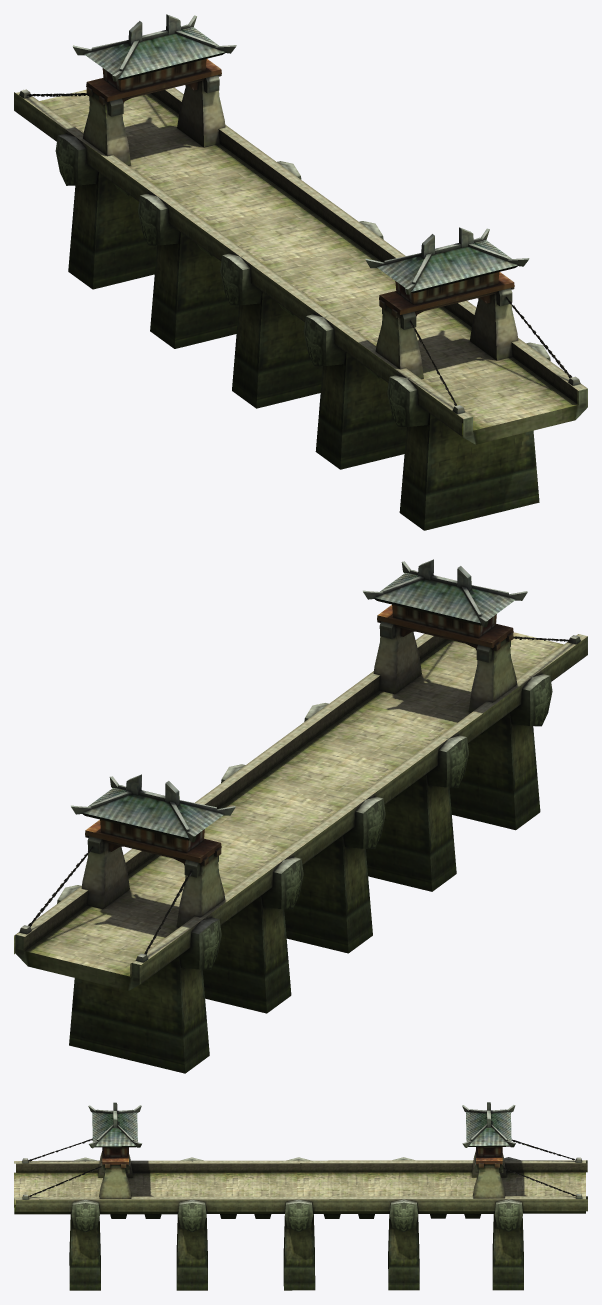
Rendered from Sce_worldmap_bridge_01.fbx.
The picture shows the model from 3 angles, top to bottom: view 1: azimuth 30°, elevation 25°; view 2: azimuth 150°, elevation 25°; view 3: azimuth 270°, elevation 25°; orthographic projection. The views are drawn at different scales.
Parts seen in each view (by area): view 1: qiao1; view 2: qiao1; view 3: qiao1.
Boxes of the visible parts, box(x1,y1,x2,y2) form: qiao1: box(14, 14, 587, 530); qiao1: box(14, 559, 587, 1073); qiao1: box(14, 1102, 587, 1290).
Bounding box in the file's own units: 160 × 258 × 808.
Materials: 1 (1 with a texture image).
